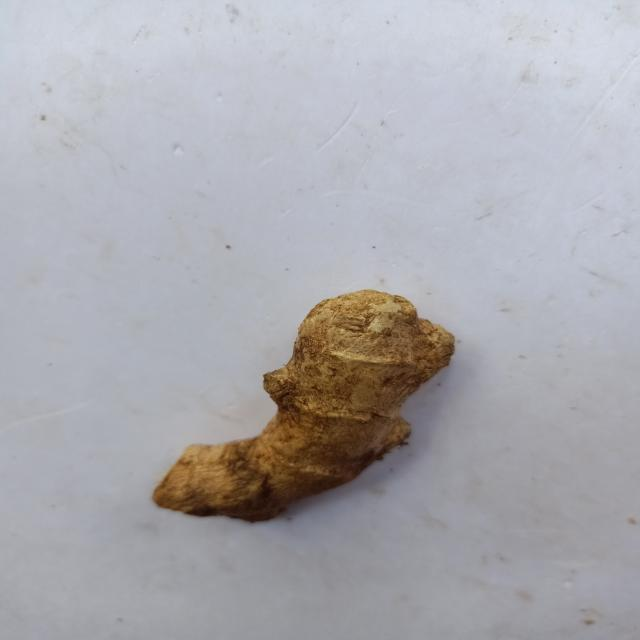Ginger: (152, 290, 454, 522)
